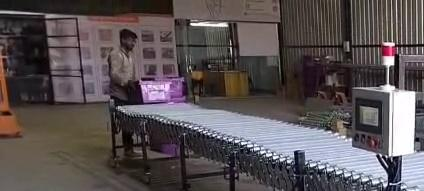box: (140, 81, 169, 102)
